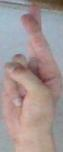R: (3, 0, 62, 151)
